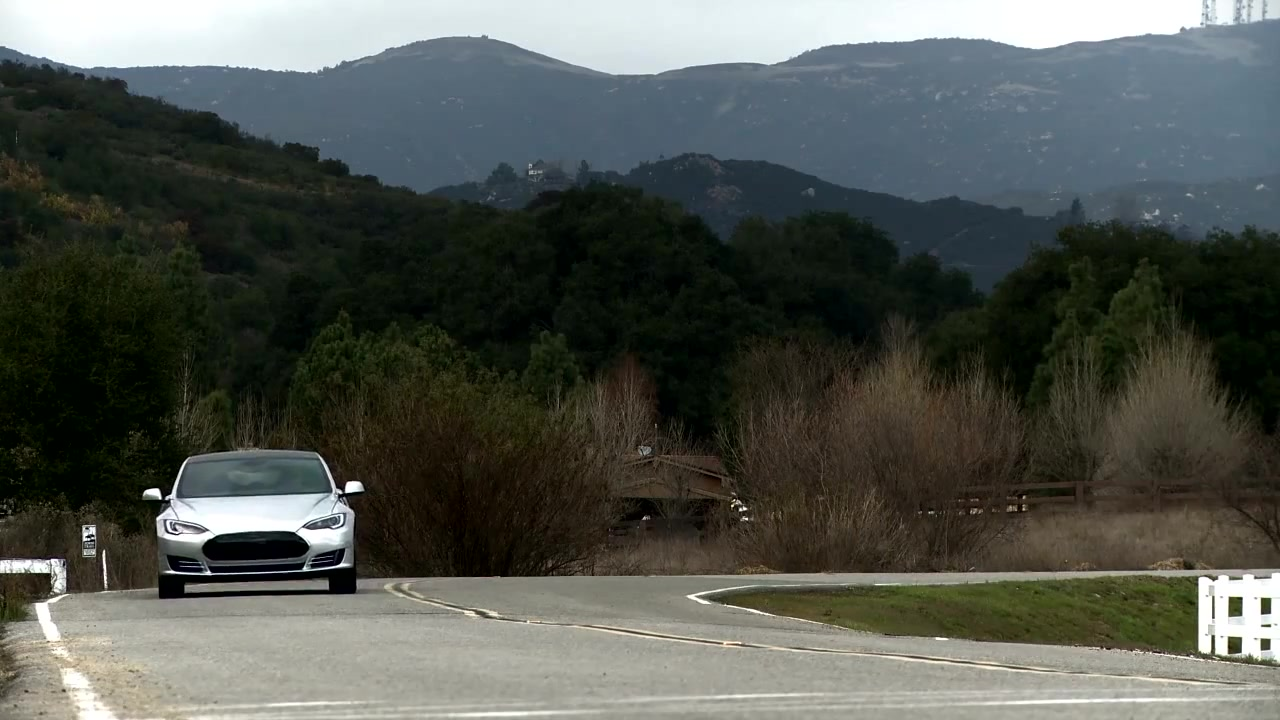car: (148, 446, 367, 598)
